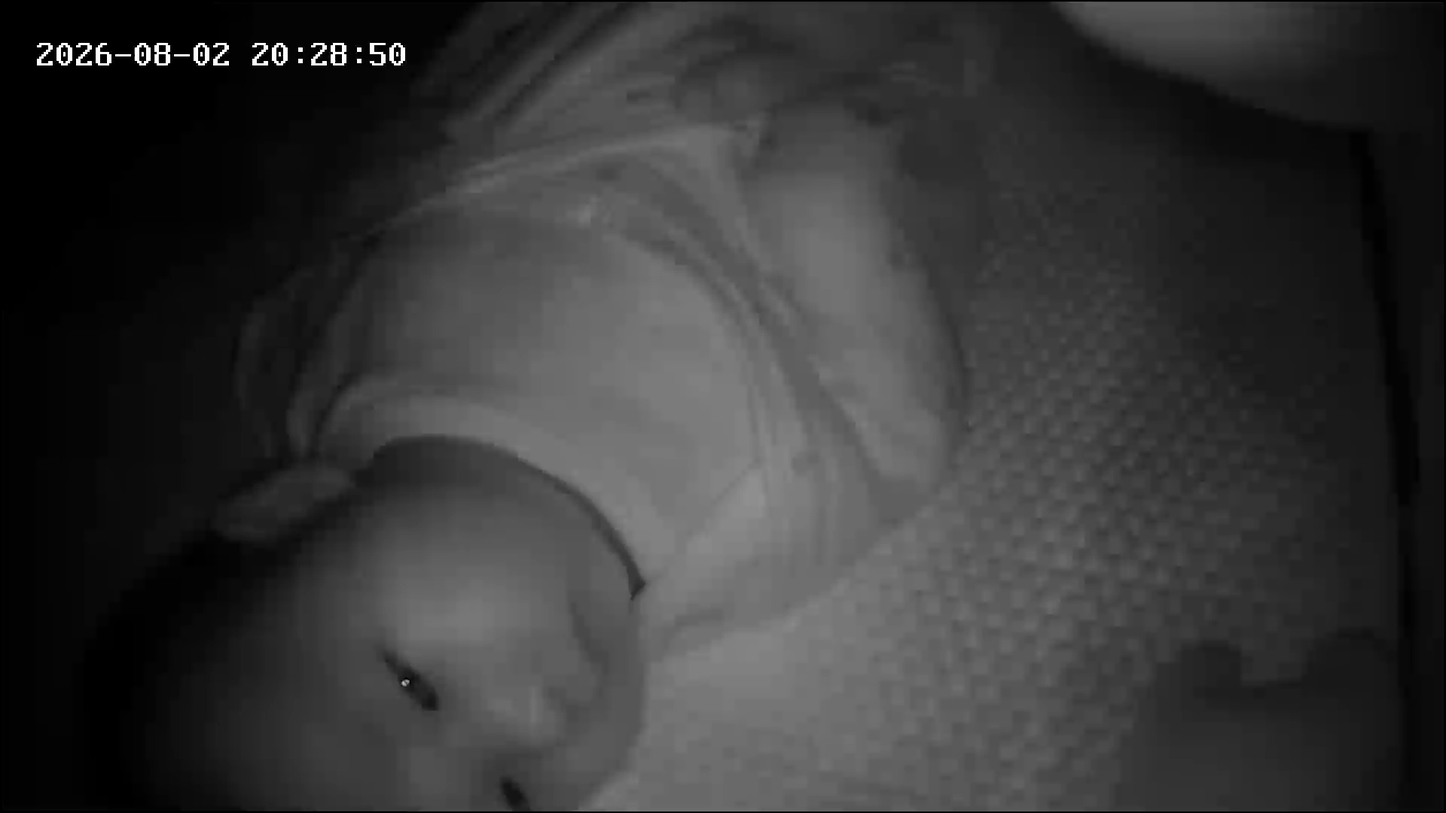baby: (37, 3, 1036, 809)
